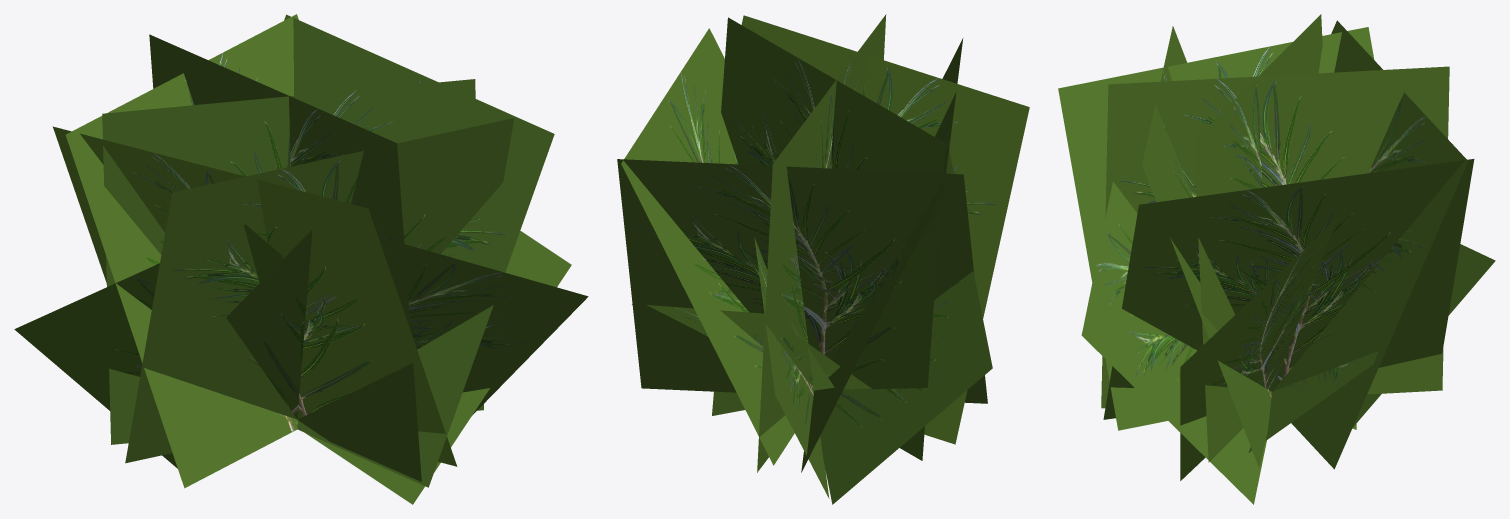
File: gs_bush66.glb
The picture shows the model from 3 angles, left to right: view 1: azimuth 30°, elevation 25°; view 2: azimuth 150°, elevation 25°; view 3: azimuth 270°, elevation 25°; orthographic projection. The views are drawn at different scales.
Parts seen in each view (by area): view 1: Plane01; view 2: Plane01; view 3: Plane01.
Part boxes in pixels (x1,y1,x2,y2): Plane01: [14, 14, 588, 504]; Plane01: [617, 14, 1029, 504]; Plane01: [1058, 14, 1495, 504].
Size of the model in its own units: 70.79 by 60.28 by 62.9.
1 material, 1 textured.
